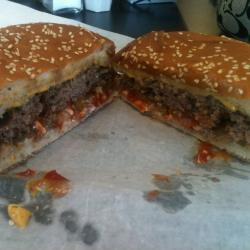burger: (114, 19, 250, 164), (1, 22, 120, 172)
